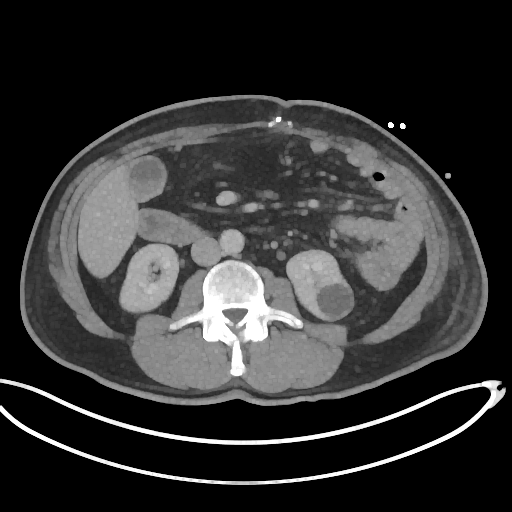Lesion: (312, 282, 359, 321)
